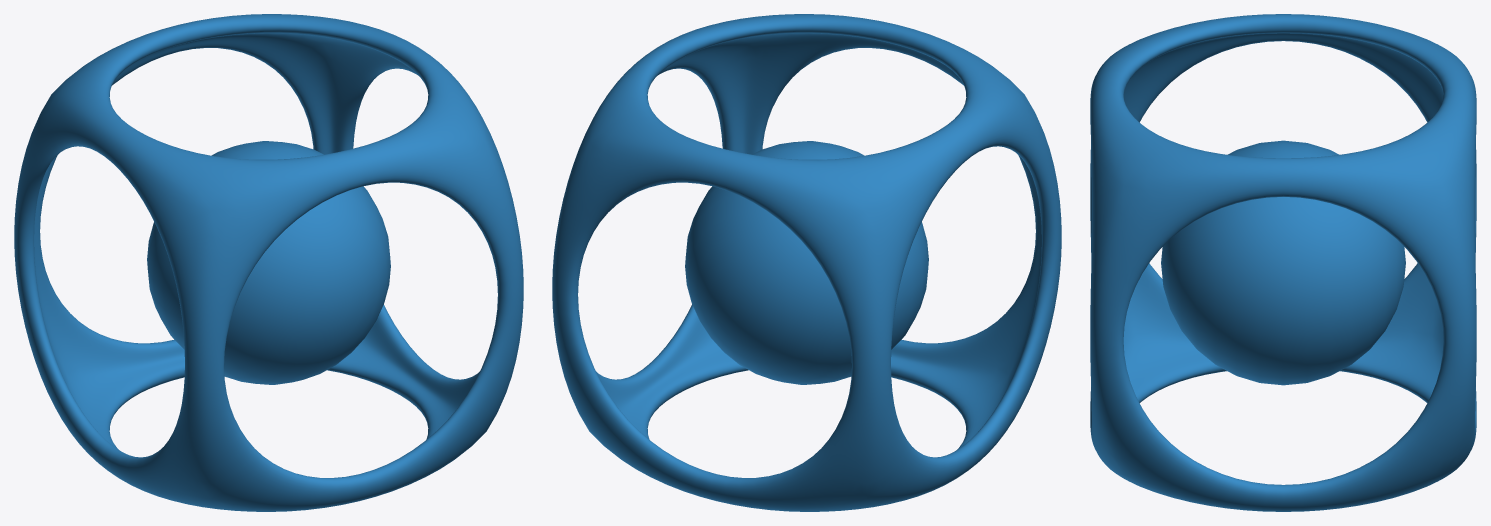
The model's file is sphere_within_box.glb.
The picture shows the model from 3 angles, left to right: view 1: azimuth 30°, elevation 25°; view 2: azimuth 150°, elevation 25°; view 3: azimuth 270°, elevation 25°; orthographic projection.
Parts seen in each view (by area): view 1: ChamferBox001; view 2: ChamferBox001; view 3: ChamferBox001.
Part boxes in pixels (left/top/right/bottom): ChamferBox001: left=14, top=14, right=523, bottom=511; ChamferBox001: left=552, top=14, right=1061, bottom=511; ChamferBox001: left=1090, top=14, right=1476, bottom=511.
Size of the model in its own units: 1 by 1 by 1.
